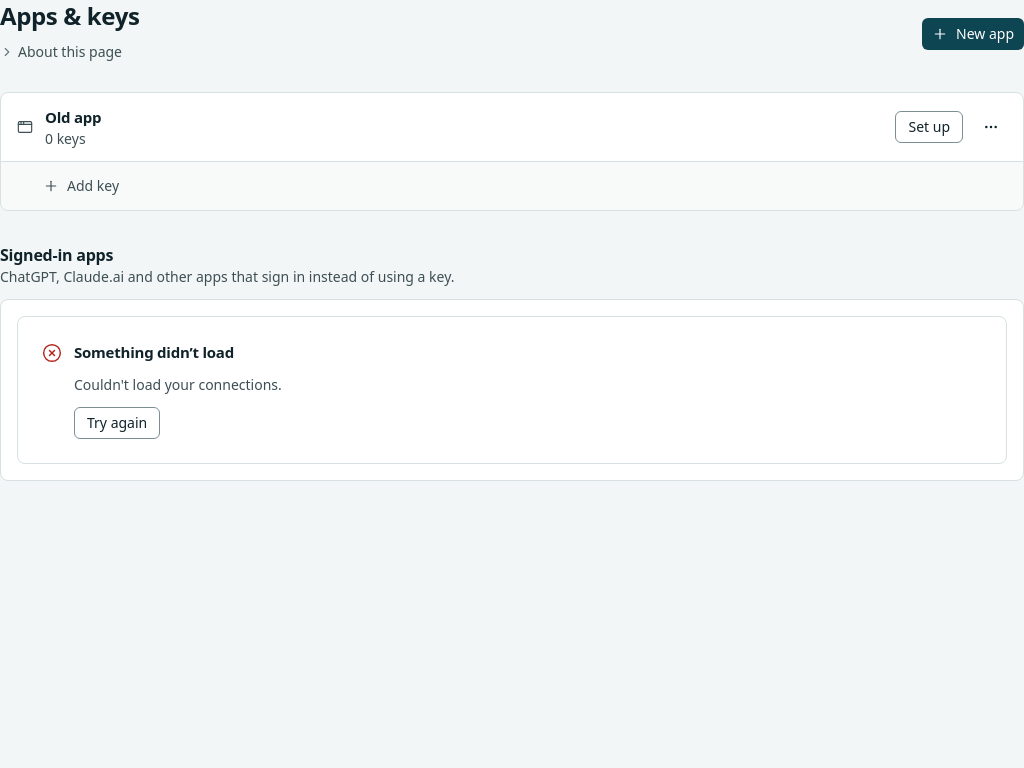
bugfix actions › removes an existing app through the account API
Expected: the heading "Old app" is shown, [45,107,101,127]
Click the button named "Actions for Old app" at (991, 127), box [975,111,1007,143]
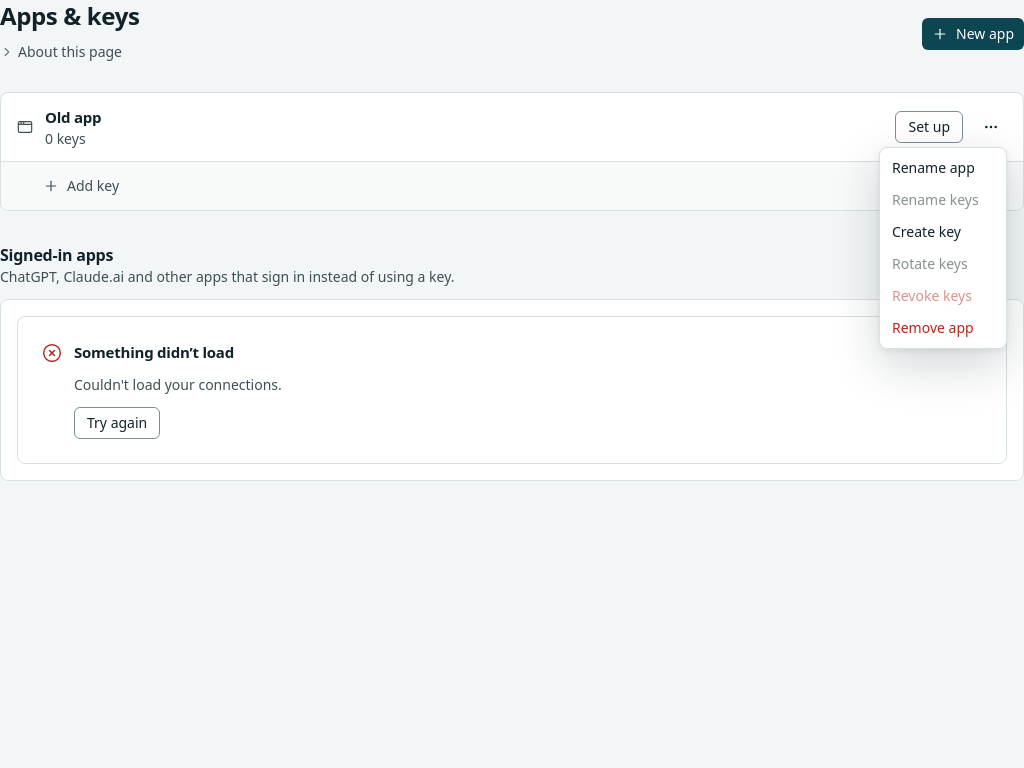
Click the menu item "Remove app" at (933, 328), box [892,318,974,337]
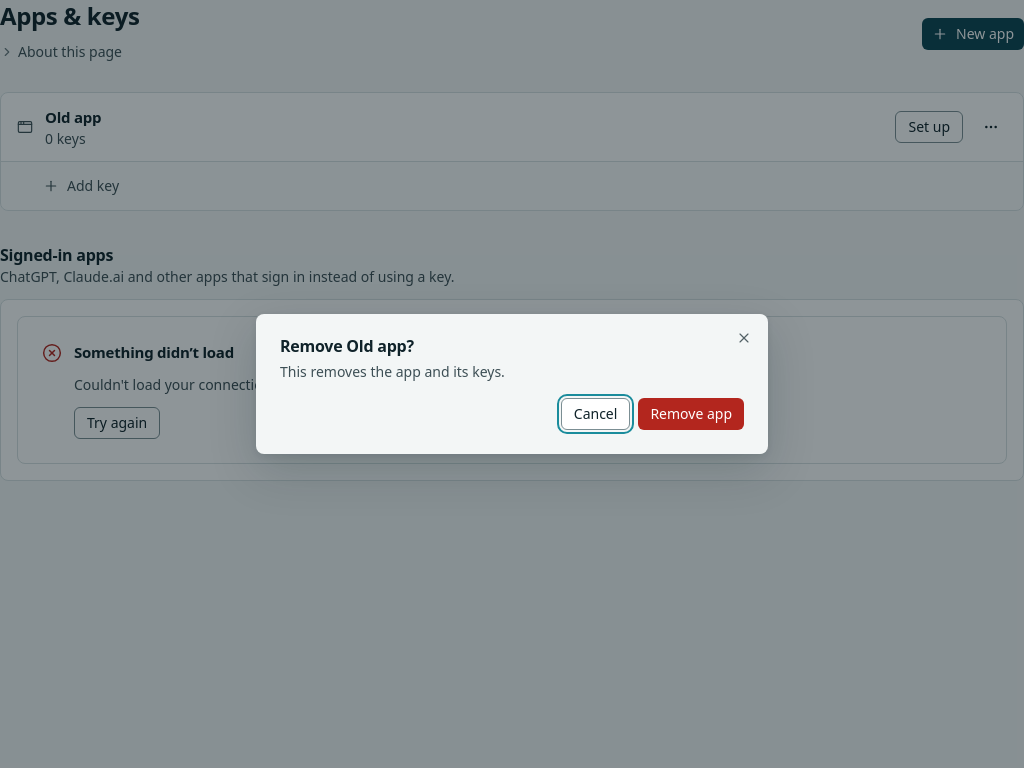
Click the button "Remove app" at (691, 414), box [638,398,744,430]
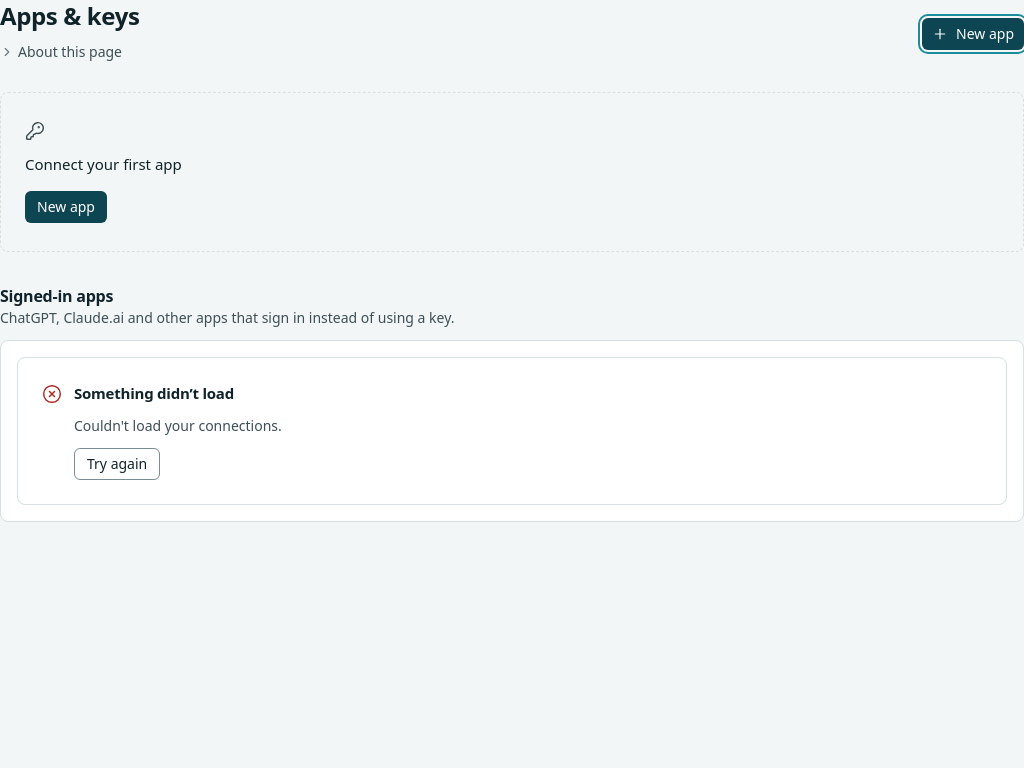
Now the text "Connect your first app" is shown, box [25,153,182,175]
